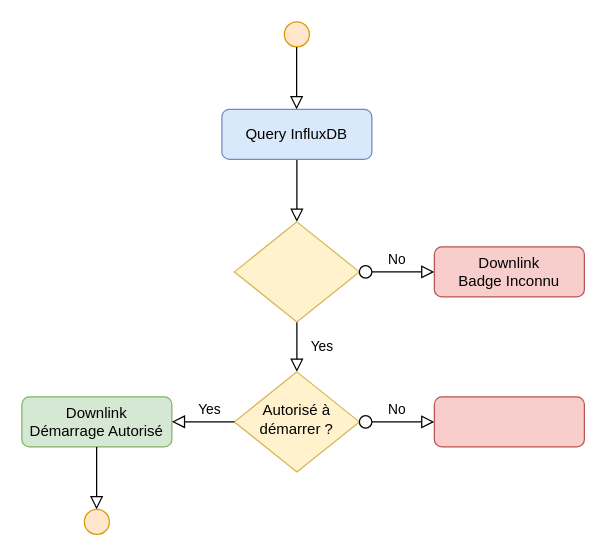
The diagram is 606 pixels wide and 556 high, and some of its shapes have lost their labels. Each missing label, with the centre of its shape:
"Badge connu ?" goes at [296,271].
"Downlink Démarrage Refusé" goes at [508,421].
